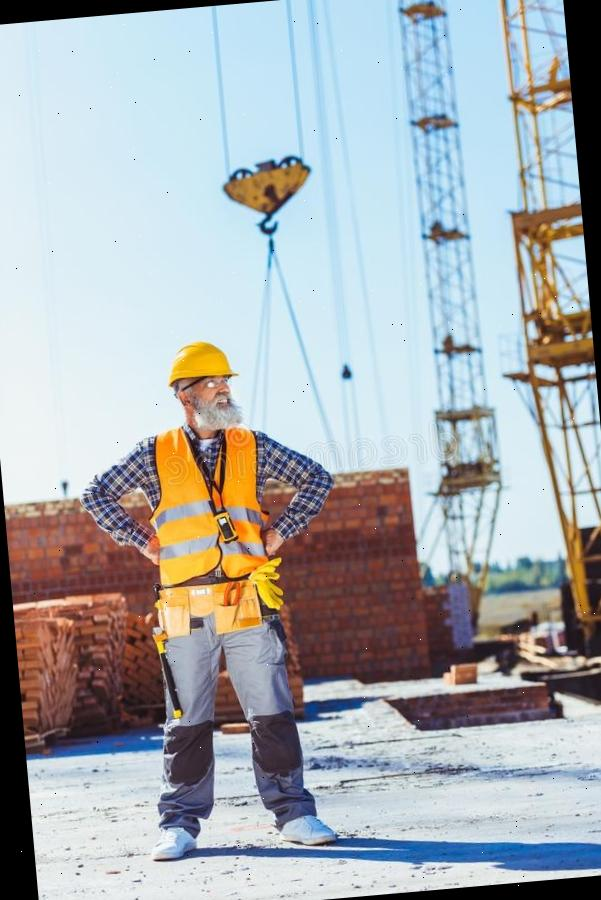helmet: (162, 337, 241, 393)
wear: (143, 423, 280, 640)
